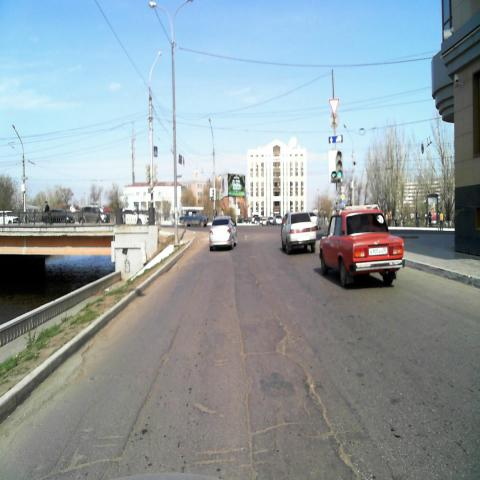6_15_1: (328, 134, 342, 144)
